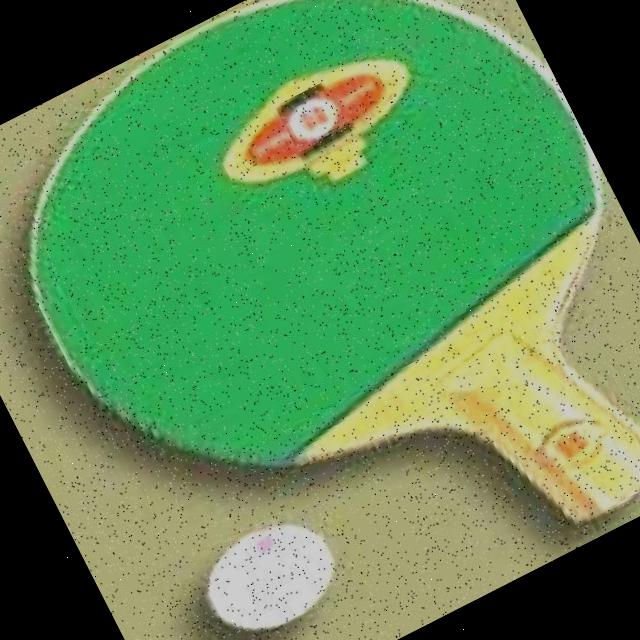ping-pong-ball: (186, 498, 359, 640)
